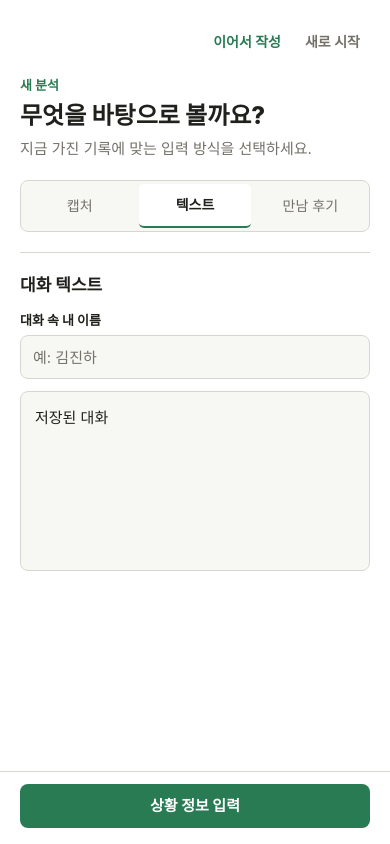
Test: HomeScreen › 새로 시작 실패 시 기존 초안과 이어서 작성을 유지하고 재시도를 제공한다
The image size is (390, 844).
Click the button "새로 시작": (332, 42) [295,20,370,64]
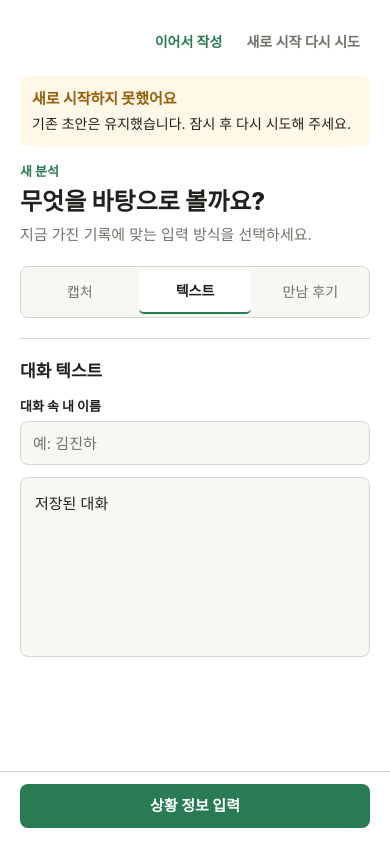
Expected: the button "이어서 작성" is shown, [145,20,232,64]
Result: the message named "새로 시작하지 못했어요. 기존 초안은 유지했습니다. 잠시 후 다시 시도해 주세요." is shown at [20,76,370,146]
Result: the button "새로 시작 다시 시도" is shown at [236,20,370,64]
